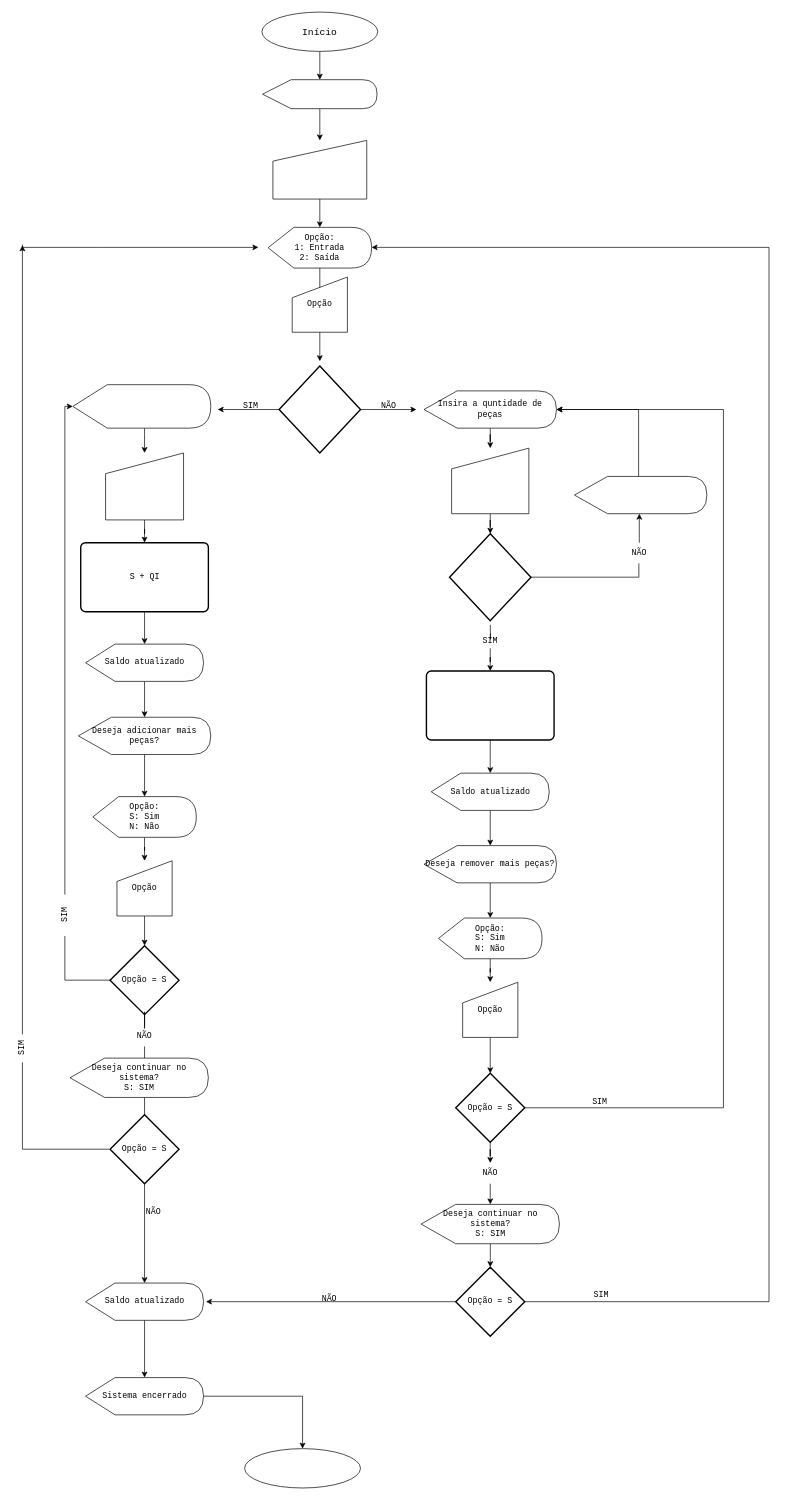
The diagram is 787 pixels wide and 1500 high, and some of its shapes have lost their labels. Each missing label, with the box of its shape:
FIM: (244, 1448, 361, 1488)
Informe o saldo inicial da peça: (262, 79, 377, 109)
Insira a quantidade de peças: (72, 384, 211, 428)
Opção 1?: (278, 365, 361, 453)
QR <= S?: (448, 533, 531, 621)
Quantidade inserida (QI): (105, 452, 184, 520)
Quantidade removida(QR): (451, 447, 529, 514)
S - QR: (425, 670, 554, 740)
Saldo insuficiente: (574, 476, 707, 514)
Saldo(S): (272, 140, 367, 199)
